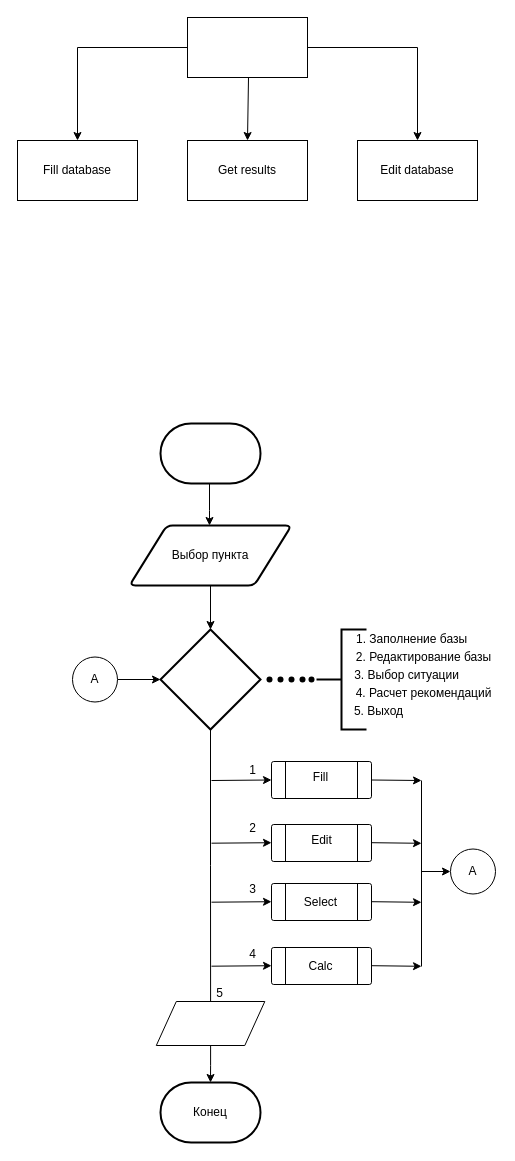
Some shapes in this 515 by 1161 pixel diagram are drawn without their labels. The box of each missing label's shape, as (x1, y1, x2, y2) in pixels:
Main app: (186, 16, 308, 78)
Выход: (155, 1000, 265, 1046)
Действие: (159, 628, 261, 730)
Начало: (159, 422, 261, 484)
